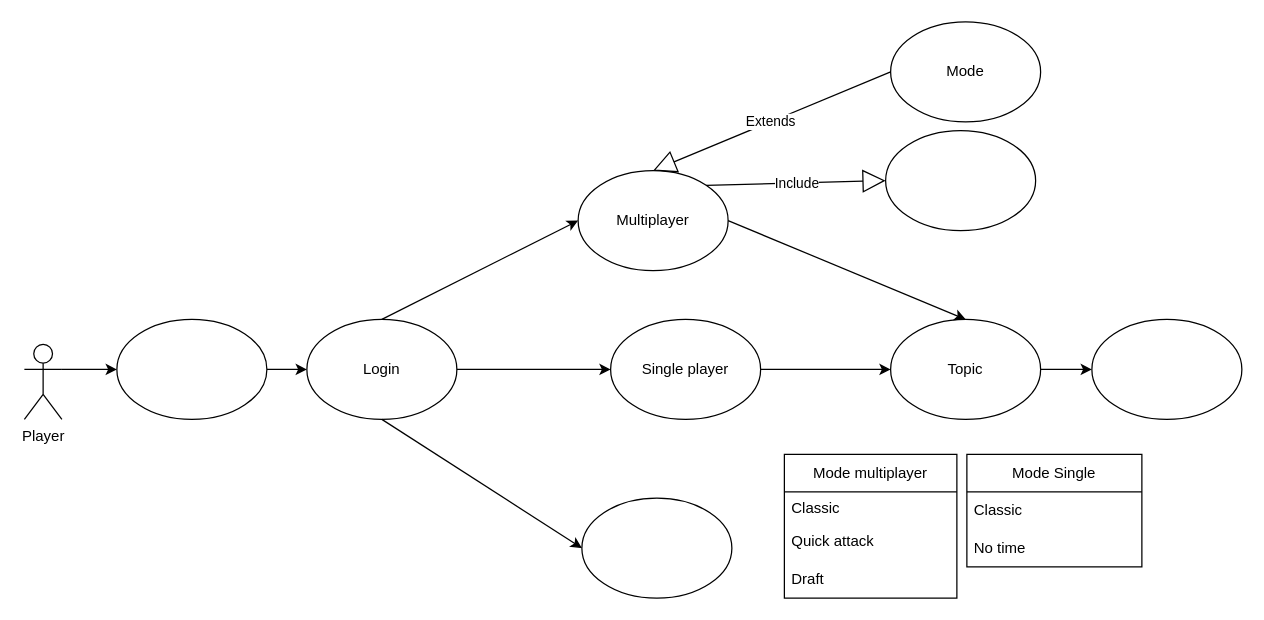
Image size: 1264x620. Some labels were removed from this diagram. The centre of each missing label's shape, as x and y in pixels:
"Edit profile" belongs at [656,547].
"Invite" belongs at [960,180].
"Sign Up" belongs at [191,368].
"Start" belongs at [1166,368].
